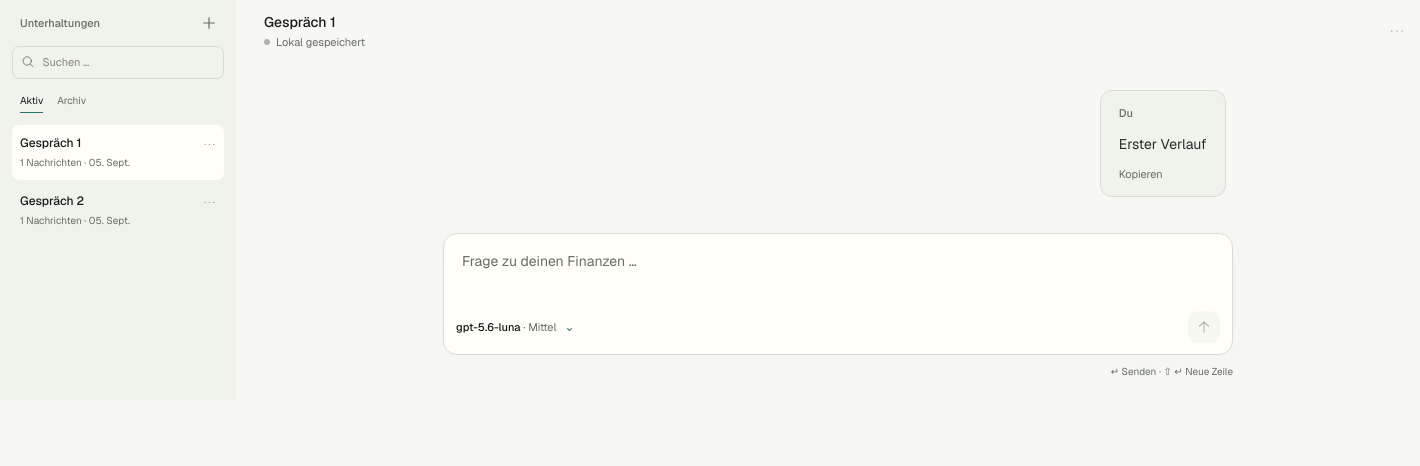
Test case: FinanceAssistant › closes the old session before switching threads and restores each thread's draft
This screenshot has width=1420, height=466.
Expected: the text "Erster Verlauf" is shown, [1119,130,1206,158]
Type "Entwurf eins" into the text box named "Frage an den Finanzassistenten".
click(838, 274); type("Entwurf eins")  # box [450,240,1226,308]
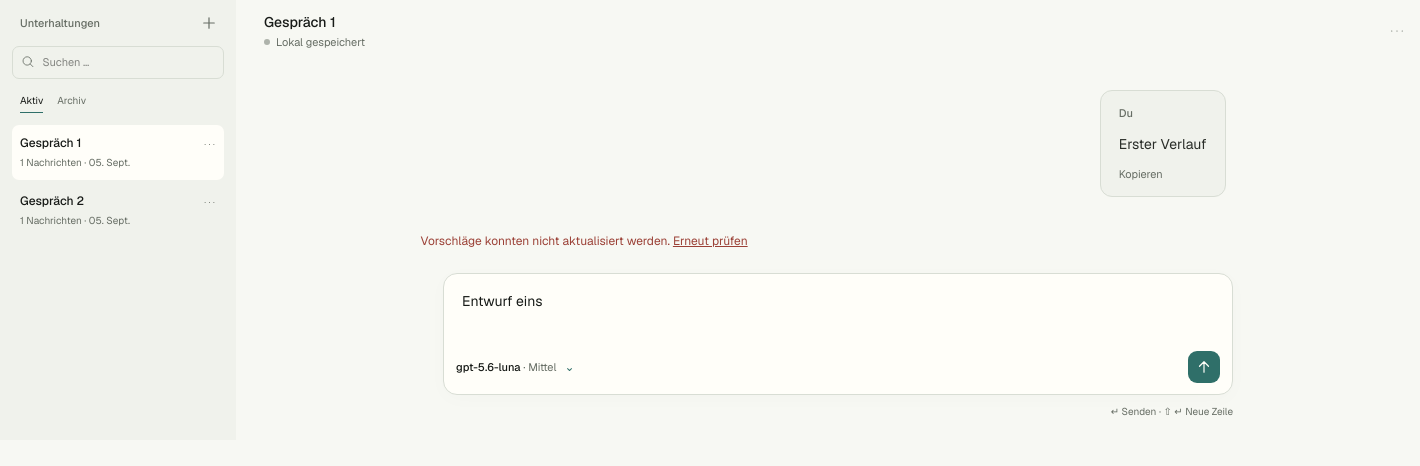
Click the button "Gespräch 2 1 Nachrichten · 05. Sept.".
click(103, 210)  # box [12,182,194,238]
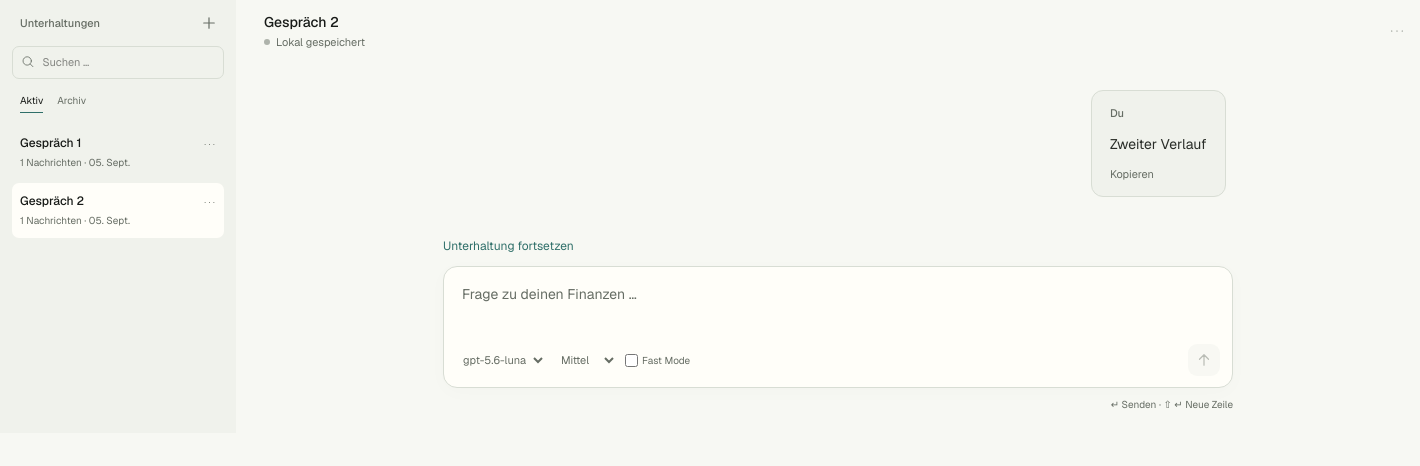
Now the text "Zweiter Verlauf" is shown, box [1110,130,1206,158]
Now the text "Erster Verlauf" is gone
Now the text box named "Frage an den Finanzassistenten" is empty
Type "Entwurf zwei" into the text box named "Frage an den Finanzassistenten".
click(838, 307); type("Entwurf zwei")  # box [450,273,1226,341]
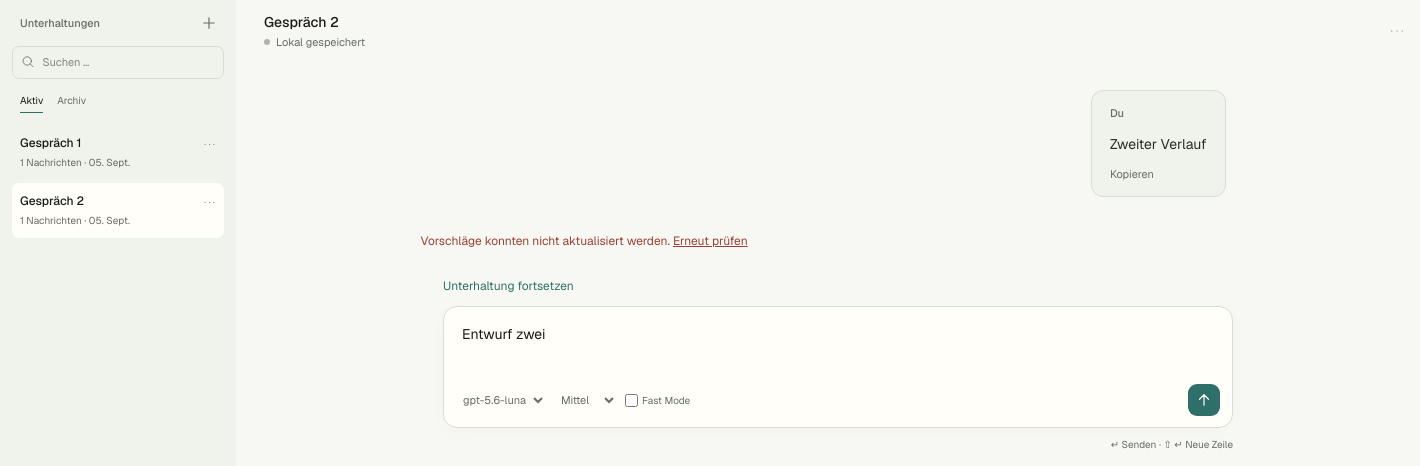
Click the button "Gespräch 1 1 Nachrichten · 05. Sept.".
click(103, 152)  # box [12,124,194,180]
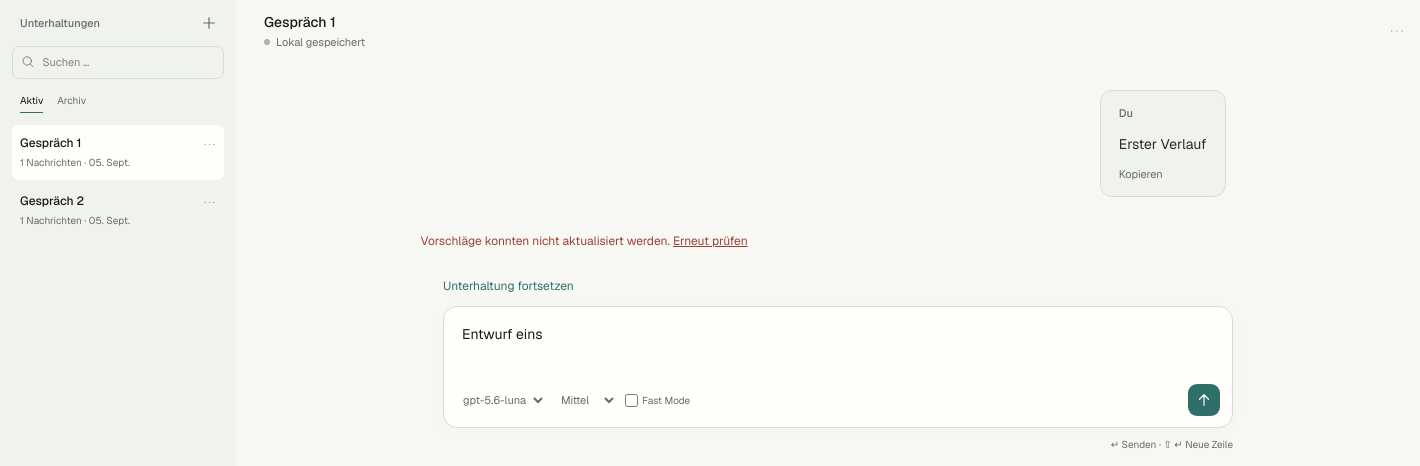
Now the text "Erster Verlauf" is shown, box [1119,130,1206,158]
Now the text box named "Frage an den Finanzassistenten" holds "Entwurf eins", box [450,313,1226,381]
